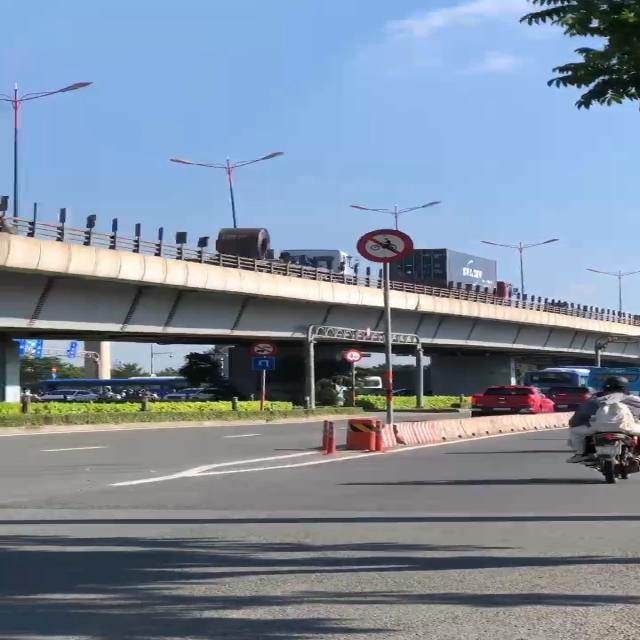Bien bao cam xe may: (352, 228, 418, 266)
